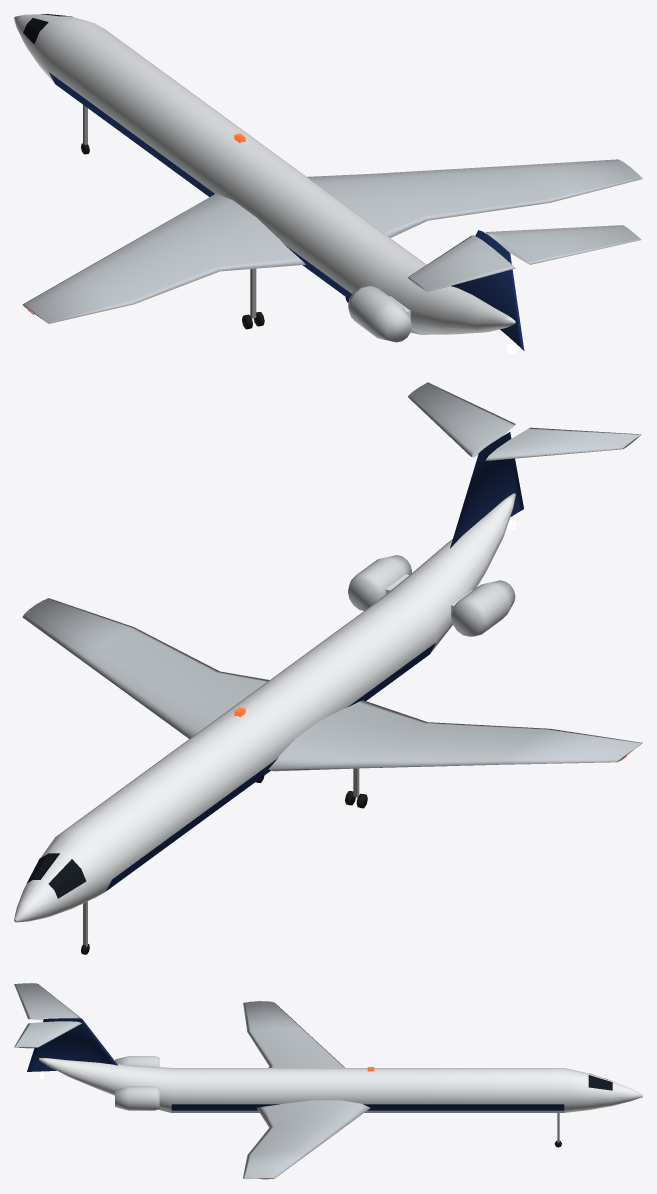
Rendered from fleet_rearjet_lod1.glb.
The picture shows the model from 3 angles, top to bottom: view 1: azimuth 30°, elevation 25°; view 2: azimuth 150°, elevation 25°; view 3: azimuth 270°, elevation 25°; orthographic projection. The views are drawn at different scales.
Visible parts, largest first — view 1: fleet_rearjet_lod1_wing, fleet_rearjet_lod1_white, fleet_rearjet_lod1_blue, fleet_rearjet_lod1_nacelle, fleet_rearjet_lod1_metal; view 2: fleet_rearjet_lod1_white, fleet_rearjet_lod1_wing, fleet_rearjet_lod1_blue, fleet_rearjet_lod1_nacelle, fleet_rearjet_lod1_glass; view 3: fleet_rearjet_lod1_white, fleet_rearjet_lod1_wing, fleet_rearjet_lod1_blue, fleet_rearjet_lod1_nacelle, fleet_rearjet_lod1_belly.
Part boxes in pixels (x1,y1,x2,y2): fleet_rearjet_lod1_wing: (22,159,642,323); fleet_rearjet_lod1_white: (14,14,515,334); fleet_rearjet_lod1_blue: (49,72,524,350); fleet_rearjet_lod1_nacelle: (348,286,411,342); fleet_rearjet_lod1_metal: (83,105,256,318); fleet_rearjet_lod1_white: (14,493,515,922); fleet_rearjet_lod1_wing: (22,382,642,771); fleet_rearjet_lod1_blue: (106,432,523,891); fleet_rearjet_lod1_nacelle: (348,555,515,636); fleet_rearjet_lod1_glass: (26,853,86,898); fleet_rearjet_lod1_white: (39,1058,642,1112); fleet_rearjet_lod1_wing: (14,983,370,1178); fleet_rearjet_lod1_blue: (27,1018,564,1110); fleet_rearjet_lod1_nacelle: (115,1056,159,1110); fleet_rearjet_lod1_belly: (158,1108,564,1112).
Size of the model in its own units: 24.9 by 8.76 by 37.69.
